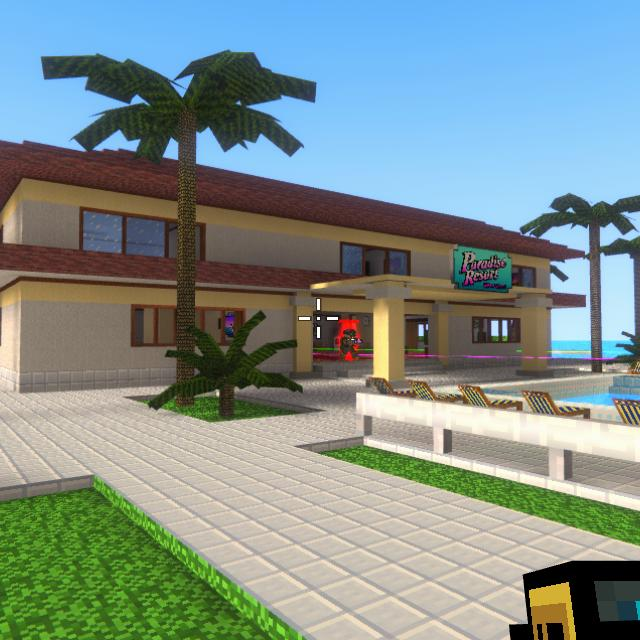Enemy: (339, 330, 360, 361)
